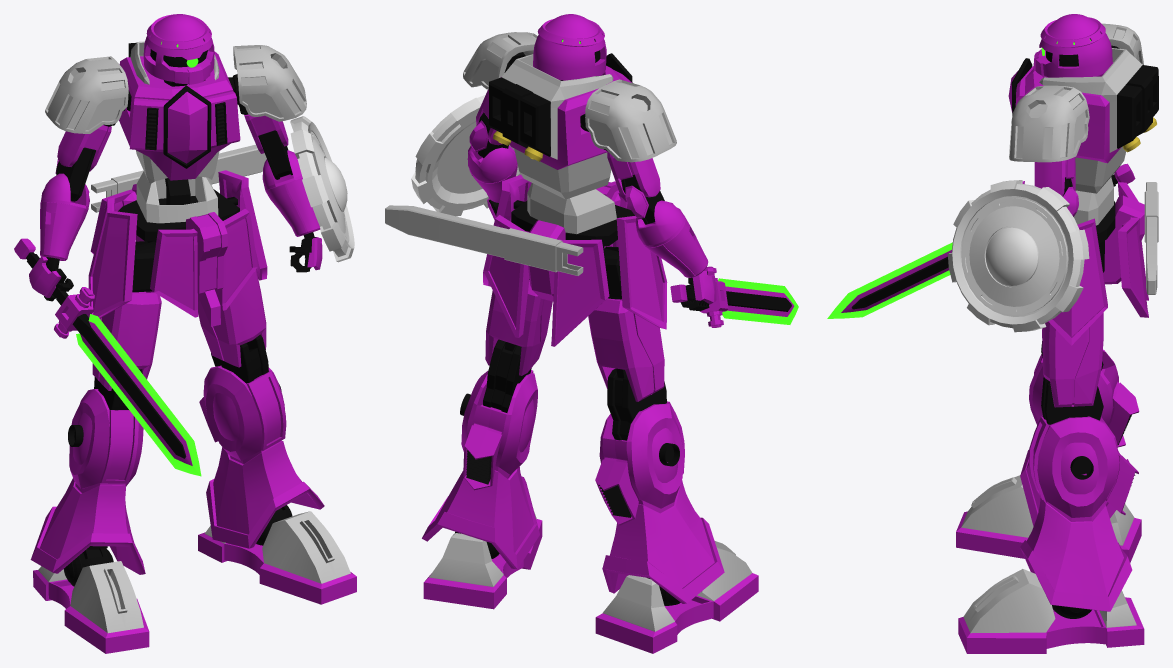
Rendered from Pawn_NormalType_Equipo1.fbx.
3 views of the same model, side by side, from view 1: azimuth 30°, elevation 25°; view 2: azimuth 150°, elevation 25°; view 3: azimuth 270°, elevation 25° (orthographic). The views are drawn at different scales.
Visible parts, largest first — view 1: Pierna_Femur_Armor_IZQ, Pierna_Femur_Armor_DER, Waist_Front_Armor_Generic, Torso_Main, Waist_Armor_Lat_IZQ (×2), Arm_Shoulder_Armor_GuardType_DER, Arm_Shield_IZQ, Arm_Shoulder_Armor_GuardType_IZQ, Pierna_Pie_Top_IZQ, Pierna_Pie_Top_DER, Cabeza_NormalType, Pierna_Pie_Bottom_IZQ (+29 smaller); view 2: Pierna_Femur_Armor_DER, Pierna_Femur_Armor_IZQ, Waist_Back_Armor_Generic, Sword_Funda, Arm_Shoulder_Armor_GuardType_DER, Arm_Shield_IZQ, Pierna_Muslo_Armor_DER, Waist_Armor_Lat_IZQ (×2), Cabeza_NormalType, Pierna_Pie_Bottom_DER, Pierna_Pie_Top_DER, Torso_BackPack_Main (+22 smaller); view 3: Pierna_Femur_Armor_IZQ, Arm_Shield_IZQ, Arm_Shoulder_Armor_GuardType_IZQ, Pierna_Pie_Top_IZQ, Pierna_Pie_Bottom_IZQ, Pierna_Muslo_Armor_IZQ, Cabeza_NormalType, Pierna_Femur_Armor_DER, Pierna_Pie_Top_DER, Waist_Armor_Lat_IZQ, Torso_BackPack_Main, Torso_cuelloArmor (+14 smaller).
Part boxes in pixels (x1,y1,x2,y2): Pierna_Femur_Armor_IZQ: (199,365,324,548); Pierna_Femur_Armor_DER: (30,389,145,574); Waist_Front_Armor_Generic: (150,208,257,317); Torso_Main: (119,51,240,180); Waist_Armor_Lat_IZQ (×2): (88,170,267,318); Arm_Shoulder_Armor_GuardType_DER: (45,56,128,133); Arm_Shield_IZQ: (290,116,354,262); Arm_Shoulder_Armor_GuardType_IZQ: (233,45,306,121); Pierna_Pie_Top_IZQ: (204,511,350,583); Pierna_Pie_Top_DER: (38,561,143,633); Cabeza_NormalType: (143,14,214,84); Pierna_Pie_Bottom_IZQ: (198,532,356,604); Pierna_Femur_Armor_DER: (595,401,724,603); Pierna_Femur_Armor_IZQ: (422,370,539,569); Waist_Back_Armor_Generic: (483,215,609,346); Sword_Funda: (385,205,583,275); Arm_Shoulder_Armor_GuardType_DER: (585,79,676,162); Arm_Shield_IZQ: (411,95,520,216); Pierna_Muslo_Armor_DER: (588,298,664,401); Waist_Armor_Lat_IZQ (×2): (483,174,667,329); Cabeza_NormalType: (533,14,606,80); Pierna_Pie_Bottom_DER: (595,573,758,653); Pierna_Pie_Top_DER: (603,541,752,631); Torso_BackPack_Main: (489,77,550,156); Pierna_Femur_Armor_IZQ: (1020,416,1138,611); Arm_Shield_IZQ: (947,180,1089,332); Arm_Shoulder_Armor_GuardType_IZQ: (1009,85,1089,162); Pierna_Pie_Top_IZQ: (963,569,1136,633); Pierna_Pie_Bottom_IZQ: (958,597,1144,653); Pierna_Muslo_Armor_IZQ: (1042,312,1103,407); Cabeza_NormalType: (1033,14,1112,77); Pierna_Femur_Armor_DER: (1020,349,1139,526); Pierna_Pie_Top_DER: (961,475,1134,545); Waist_Armor_Lat_IZQ: (1048,218,1107,345); Torso_BackPack_Main: (1117,65,1158,148); Torso_cuelloArmor: (1039,48,1142,152).
Size of the model in its own units: 731 by 1330 by 695.
